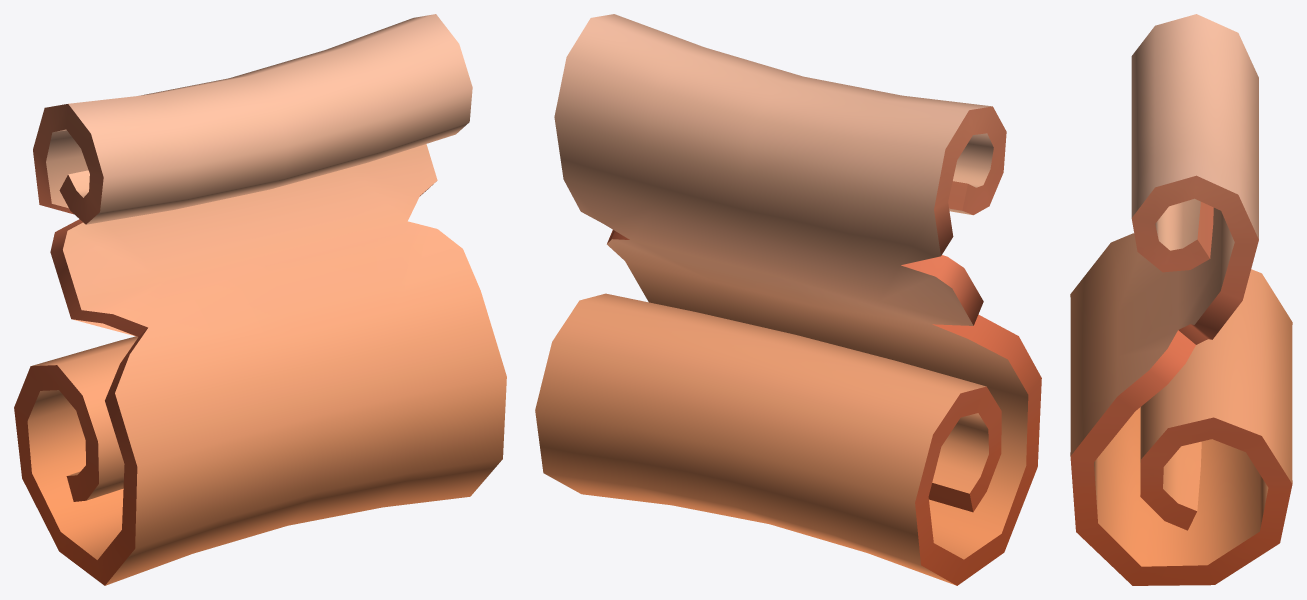
Rendered from Scroll_01.glb.
The picture shows the model from 3 angles, left to right: view 1: azimuth 30°, elevation 25°; view 2: azimuth 150°, elevation 25°; view 3: azimuth 270°, elevation 25°; orthographic projection. The views are drawn at different scales.
Parts seen in each view (by area): view 1: Scroll_01; view 2: Scroll_01; view 3: Scroll_01.
Part boxes in pixels (x1=…): Scroll_01: x1=14, y1=14, x2=506, y2=585; Scroll_01: x1=535, y1=14, x2=1041, y2=585; Scroll_01: x1=1070, y1=14, x2=1292, y2=585.
Bounding box in the file's own units: 0.8709 × 1.02 × 0.4979.
Materials: 1 (1 with a texture image).
